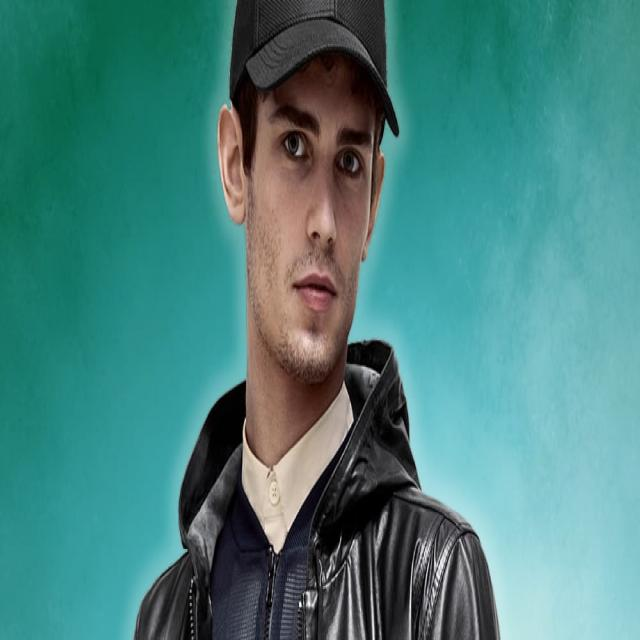suspicious-objects: (229, 0, 399, 134)
